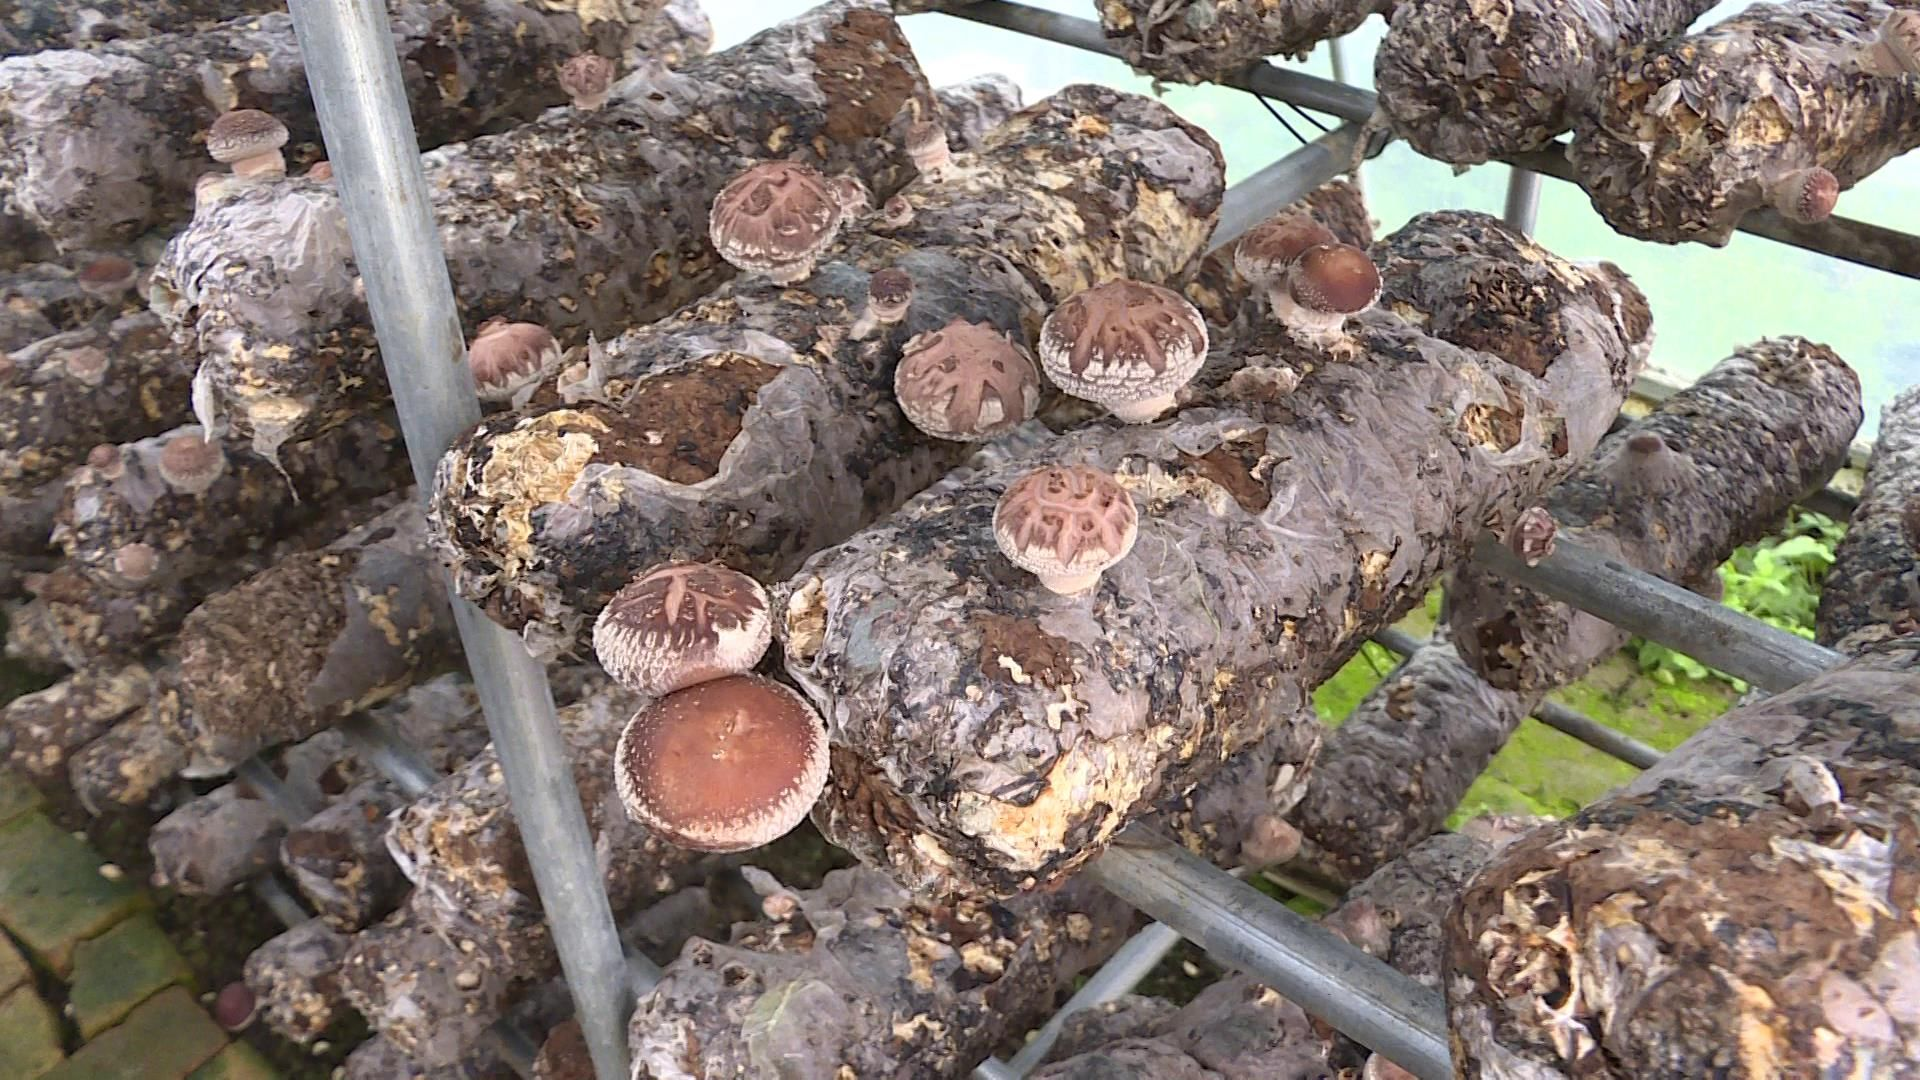B: (608, 683, 838, 858), (1295, 241, 1381, 356), (467, 317, 569, 413), (200, 100, 303, 193), (1238, 201, 1307, 328), (1767, 168, 1844, 226)
H: (1041, 278, 1208, 440), (588, 565, 780, 675), (1003, 463, 1138, 611), (707, 168, 859, 295), (895, 319, 1040, 448)
